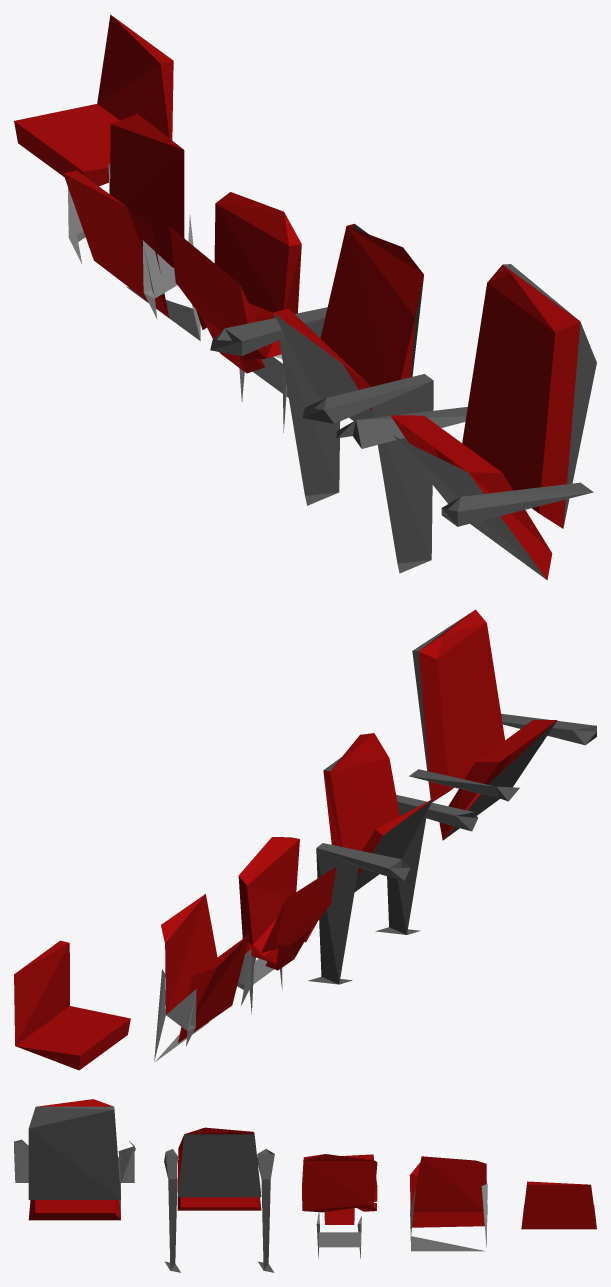
The model's file is arena-seats.lod1.glb.
3 views of the same model, one above another, from view 1: azimuth 30°, elevation 25°; view 2: azimuth 150°, elevation 25°; view 3: azimuth 270°, elevation 25° (orthographic). The views are drawn at different scales.
Visible parts, largest first — view 1: Material2; view 2: Material2; view 3: Material2.
Part boxes in pixels (<box>): Material2: <box>14,14,596,580</box>; Material2: <box>14,609,596,1070</box>; Material2: <box>14,1099,596,1272</box>.
Bounding box in the file's own units: 1.32 × 1.86 × 5.68.
